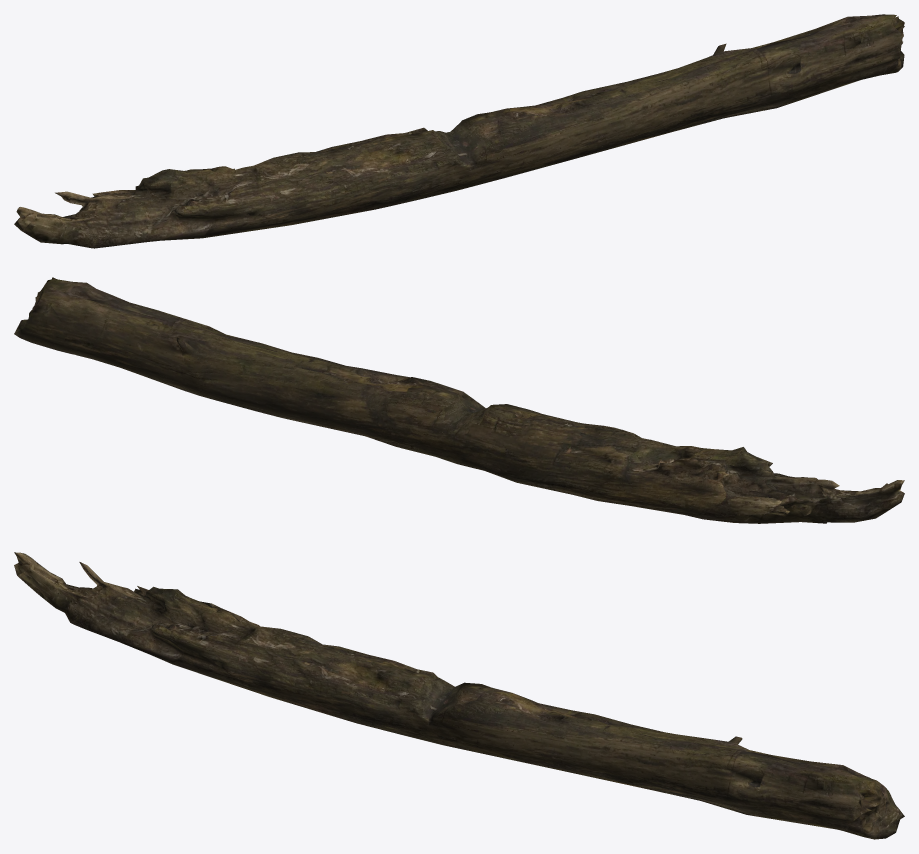
The model's file is tronco.glb.
3 views of the same model, one above another, from view 1: azimuth 30°, elevation 25°; view 2: azimuth 150°, elevation 25°; view 3: azimuth 330°, elevation 25° (orthographic).
Parts seen in each view (by area): view 1: dead_tree_trunk; view 2: dead_tree_trunk; view 3: dead_tree_trunk.
Boxes of the visible parts, left/top/right/bottom form: dead_tree_trunk: left=14, top=14, right=904, bottom=248; dead_tree_trunk: left=14, top=277, right=904, bottom=523; dead_tree_trunk: left=14, top=552, right=904, bottom=839.
Size of the model in its own units: 3.04 by 0.2847 by 0.2773.
1 material, 1 textured.
